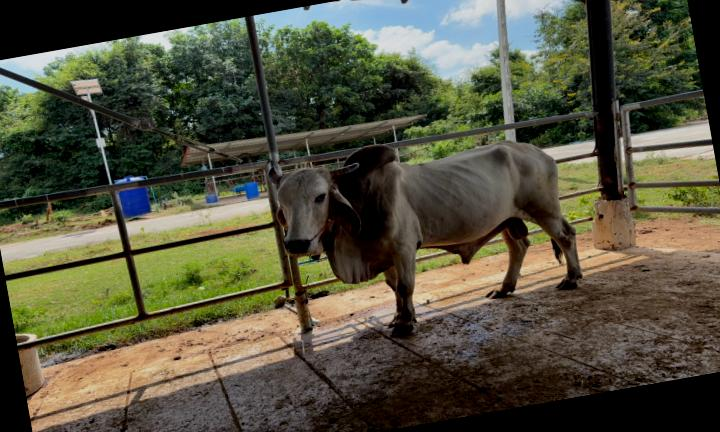Brahman: (269, 141, 582, 335)
